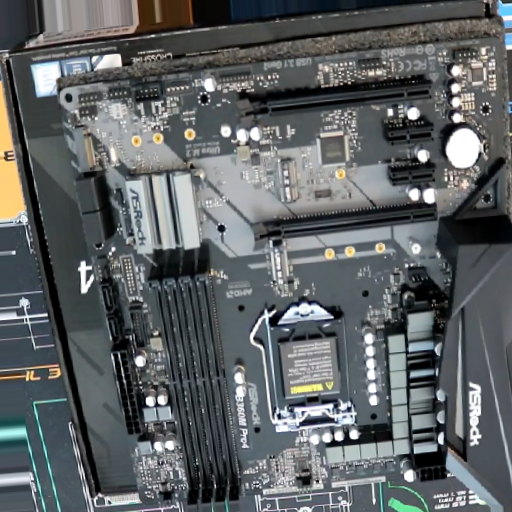CPU: (271, 302, 357, 433)
GPU: (237, 80, 432, 131), (252, 201, 439, 253)
MOTHERBOARD: (59, 38, 512, 492)
RAM: (148, 261, 240, 512)
SSD: (72, 127, 97, 175), (267, 246, 290, 293), (277, 161, 298, 202)
